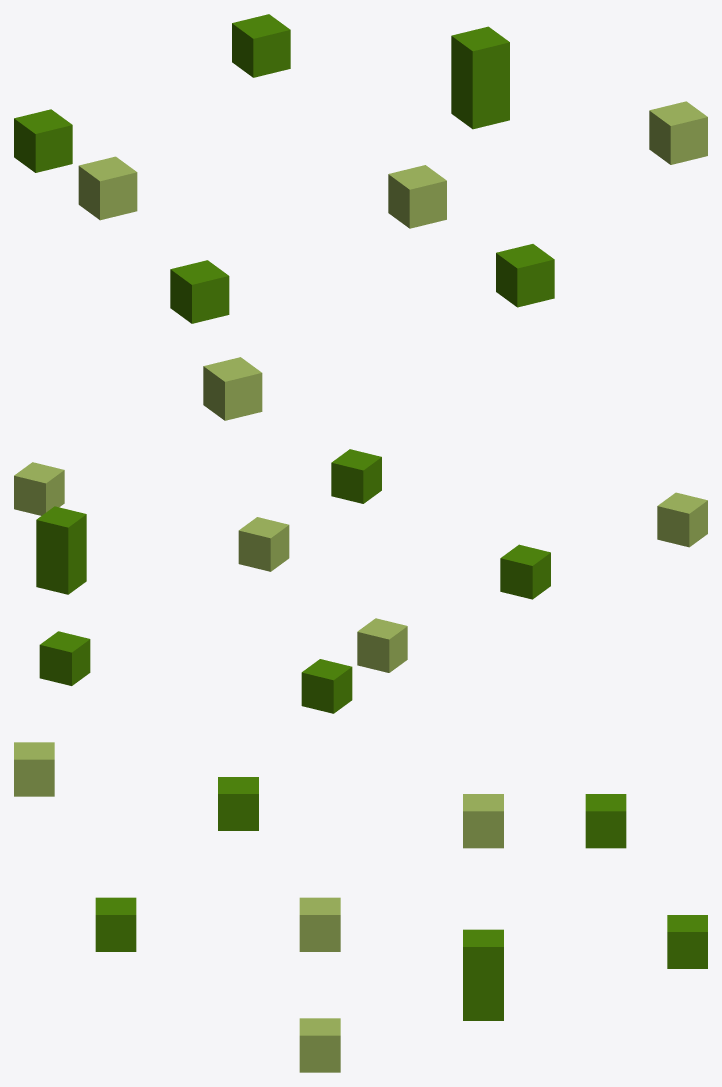
File: GroundObject_003.obj
3 views of the same model, one above another, from view 1: azimuth 30°, elevation 25°; view 2: azimuth 150°, elevation 25°; view 3: azimuth 270°, elevation 25° (orthographic). The views are drawn at different scales.
Size of the model in its own units: 1.7 by 0.2 by 1.7.
1 material, 1 textured.
